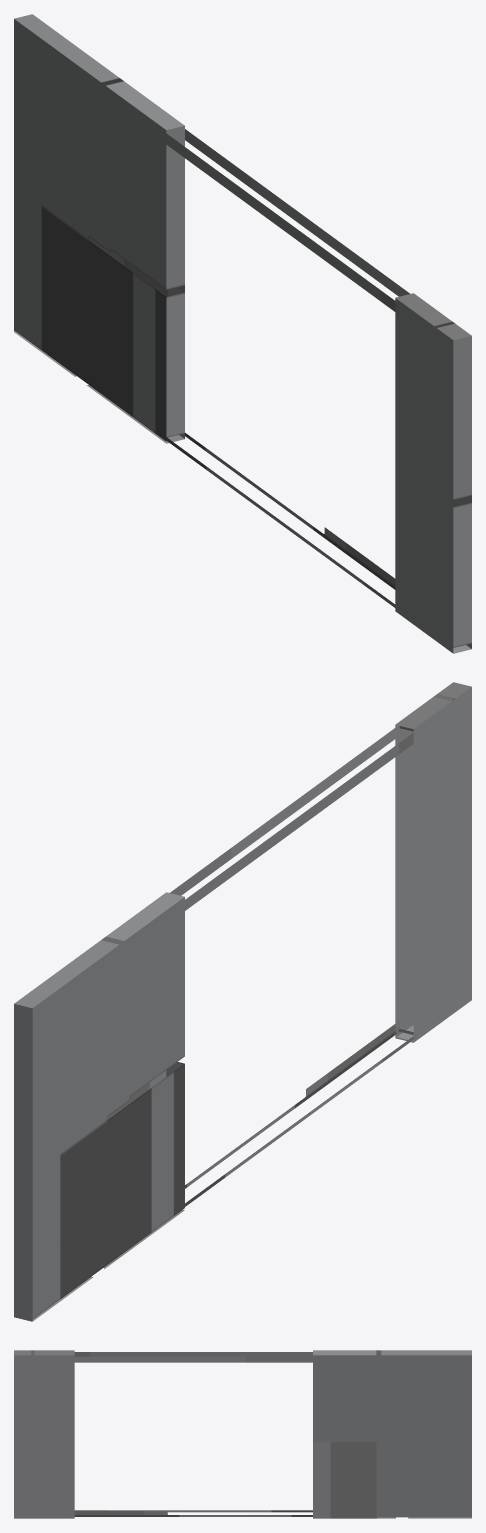
3 renders of one model, top to bottom at view 1: azimuth 30°, elevation 25°; view 2: azimuth 150°, elevation 25°; view 3: azimuth 270°, elevation 25°, orthographic. The views are drawn at different scales.
Size of the model in its own units: 0.06 by 0.968 by 2.46.
